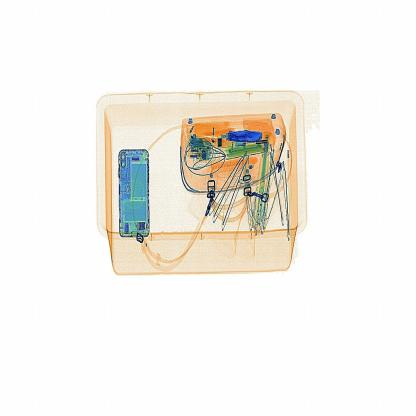knife: (221, 123, 270, 152)
